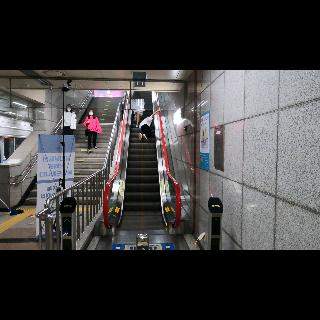anomaly: (139, 108, 163, 140)
normal: (84, 108, 102, 154), (125, 90, 141, 130), (62, 104, 78, 142)
